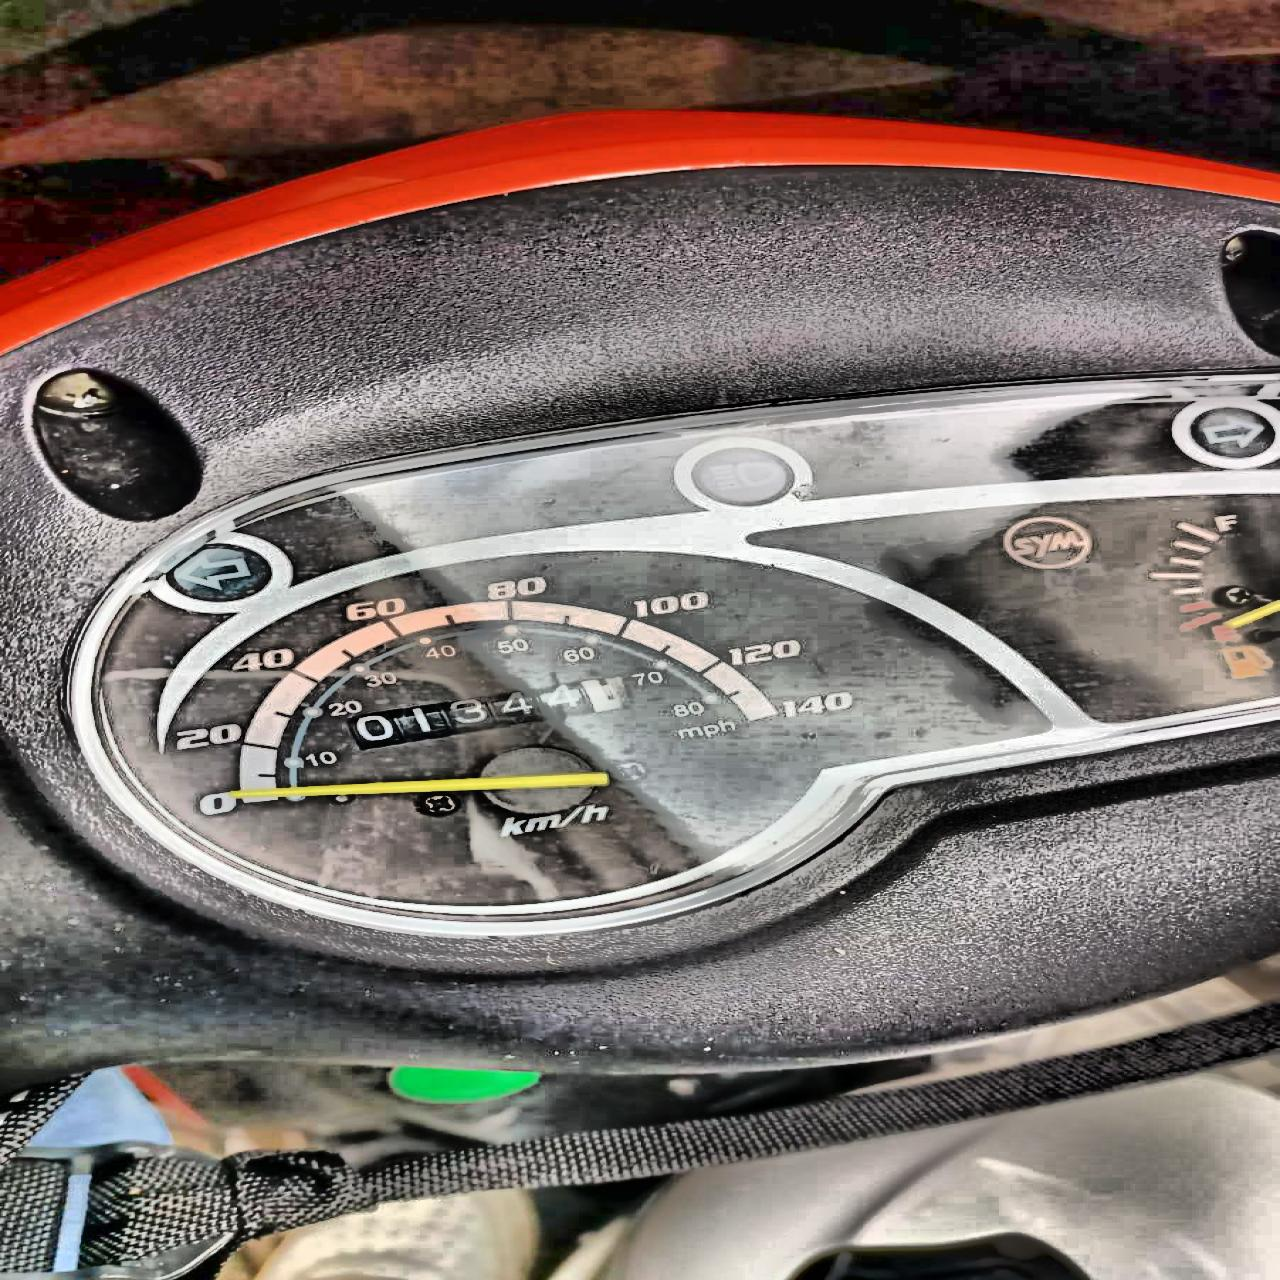0: (353, 713, 393, 741), (343, 700, 361, 713), (379, 674, 396, 685)
1: (588, 675, 621, 702), (404, 704, 433, 734)
3: (444, 697, 486, 724), (363, 674, 381, 687)
4: (496, 688, 533, 716), (542, 682, 580, 708)
odometer: (342, 673, 634, 753)
